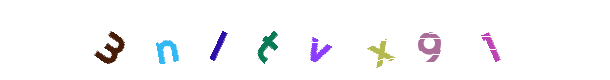1: (371, 0, 451, 80)
3: (72, 0, 152, 80)
9: (341, 0, 421, 80)
L: (178, 0, 258, 80)
N: (127, 0, 207, 80)
T: (227, 0, 307, 80)
V: (265, 0, 345, 80)
X: (267, 0, 347, 80)
